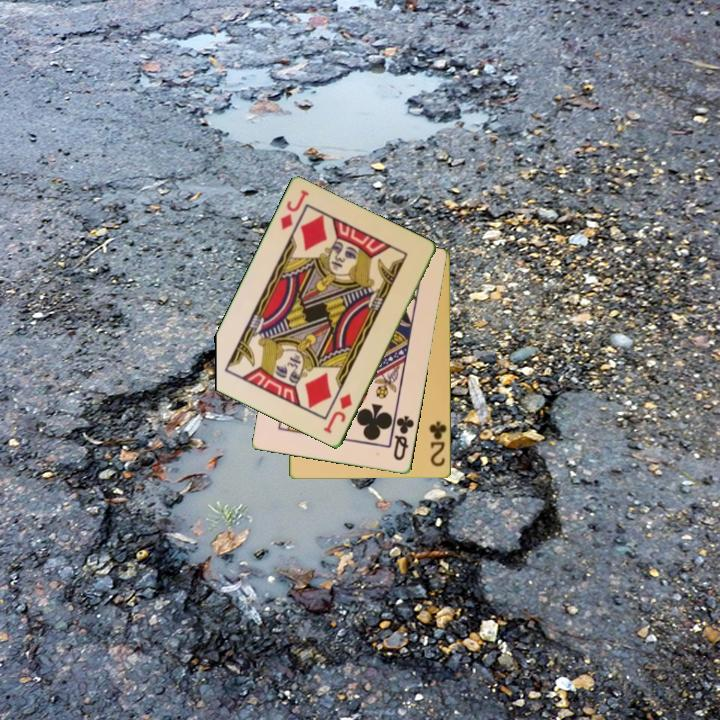2c: (426, 418, 449, 470)
Jd: (320, 390, 355, 437), (277, 187, 312, 234)
Qc: (390, 412, 417, 464)
